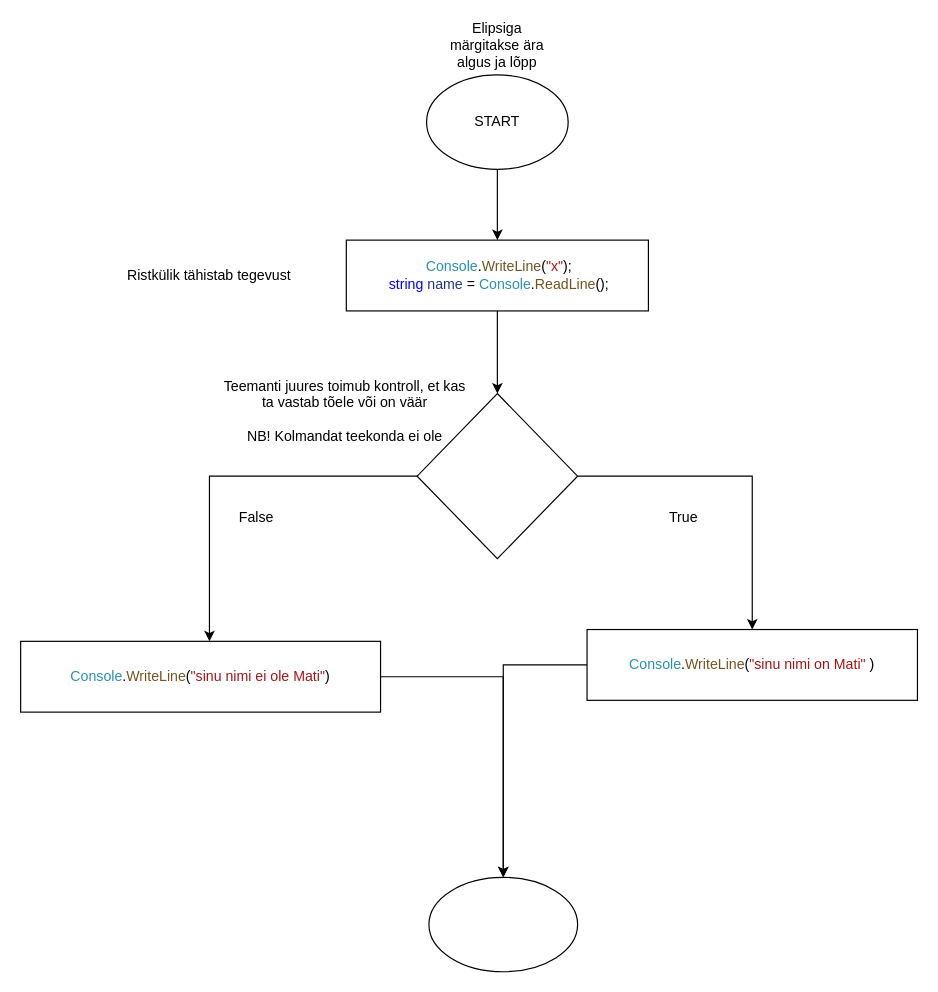
Image size: 938x992. Some labels were removed from this diagram. The shapes that lost their labels are listed below. From the top down, each one's box as (x1, y1, x2, y2) in pixels, then its label:
(416, 392, 578, 559): if ( name == "x" )
(428, 876, 578, 972): END
